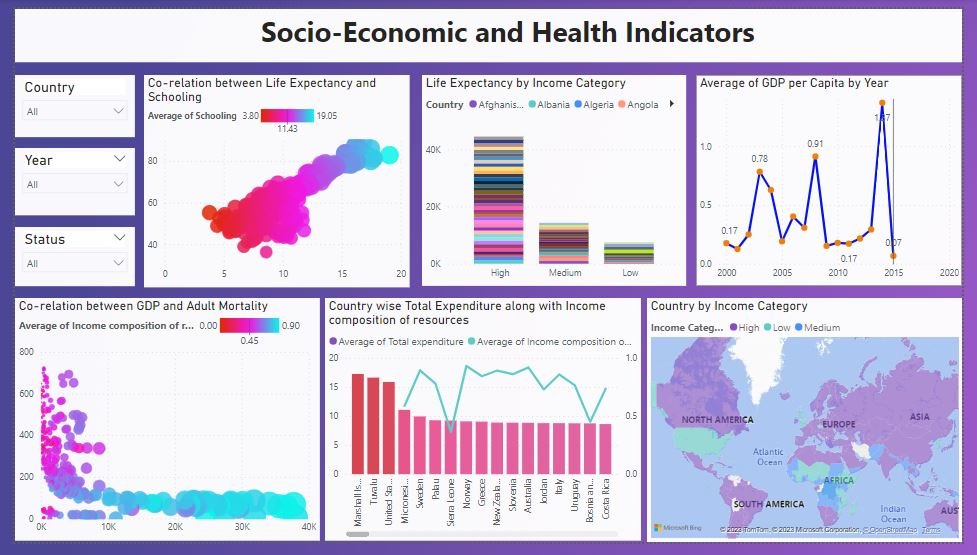

What the dashboard file says about the page in this screenshot:
{"tool":"powerbi","page":{"name":"Socio-Economic and health indicators ","canvas":[1280,720],"ordinal":5},"visuals":[{"type":"columnChart","title":"Life Expectancy by Income Category","fields":{"Category":["Life Expectancy Data.Income Category"],"Y":["Sum(Life Expectancy Data.Life expectancy )"],"Series":["Life Expectancy Data.Country"]},"box":[549.3,89.3,357.3,285.3],"z":0},{"type":"lineClusteredColumnComboChart","title":"Country wise Total Expenditure along with Income  composition of resources","fields":{"Category":["Life Expectancy Data.Country"],"Y":["Avg(Life Expectancy Data.Total expenditure)"],"Y2":["Avg(Life Expectancy Data.Income composition of resources)"]},"box":[419.5,391,426.7,328.5],"z":1000},{"type":"lineChart","fields":{"Category":["Life Expectancy Data.Year"],"Y":["Avg(Life Expectancy Data.GDP per Capita)"]},"box":[920,89.3,360,285.3],"z":2000},{"type":"scatterChart","title":"Co-relation between Life Expectancy and Schooling","fields":{"X":["Avg(Life Expectancy Data.Schooling)"],"Y":["Life Expectancy Data.Life expectancy "],"Size":["Avg(Life Expectancy Data.Life expectancy )1"]},"box":[175,89.3,358.8,287.4],"z":3000},{"type":"filledMap","title":" Country by Income Category","fields":{"Category":["Life Expectancy Data.Country"],"Series":["Life Expectancy Data.Income Category"]},"box":[853.9,390.2,426.2,329.8],"z":4000},{"type":"slicer","fields":{"Values":["Life Expectancy Data.Country"]},"box":[0,89.3,162.5,83.9],"z":5000},{"type":"slicer","fields":{"Values":["Life Expectancy Data.Year"]},"box":[0,187.4,162.5,91],"z":6000},{"type":"slicer","fields":{"Values":["Life Expectancy Data.Status"]},"box":[0,294.6,162.5,80.3],"z":7000},{"type":"textbox","box":[0,0,1280.2,72],"z":8000},{"type":"scatterChart","title":"Co-relation between GDP and Adult Mortality","fields":{"Y":["Life Expectancy Data.Adult Mortality"],"Size":["Avg(Life Expectancy Data.GDP)"],"X":["Avg(Life Expectancy Data.GDP)"]},"box":[0,391,412.4,328.5],"z":9000}]}

Visuals, with their boxes in screenshot pixels (x1, y1, x2, y2), scaled from the page's 1280x720 canvas onto the 977x555 screenshot:
"Life Expectancy by Income Category" columnChart: bbox(419, 69, 692, 289)
"Country wise Total Expenditure along with Income  composition of resources" lineClusteredColumnComboChart: bbox(320, 301, 646, 554)
lineChart - Life Expectancy Data.Year x Avg(Life Expectancy Data.GDP per Capita): bbox(702, 69, 976, 289)
"Co-relation between Life Expectancy and Schooling" scatterChart: bbox(134, 69, 407, 290)
" Country by Income Category" filledMap: bbox(652, 301, 976, 554)
slicer - Life Expectancy Data.Country: bbox(0, 69, 124, 134)
slicer - Life Expectancy Data.Year: bbox(0, 144, 124, 215)
slicer - Life Expectancy Data.Status: bbox(0, 227, 124, 289)
textbox: bbox(0, 0, 976, 56)
"Co-relation between GDP and Adult Mortality" scatterChart: bbox(0, 301, 315, 554)
